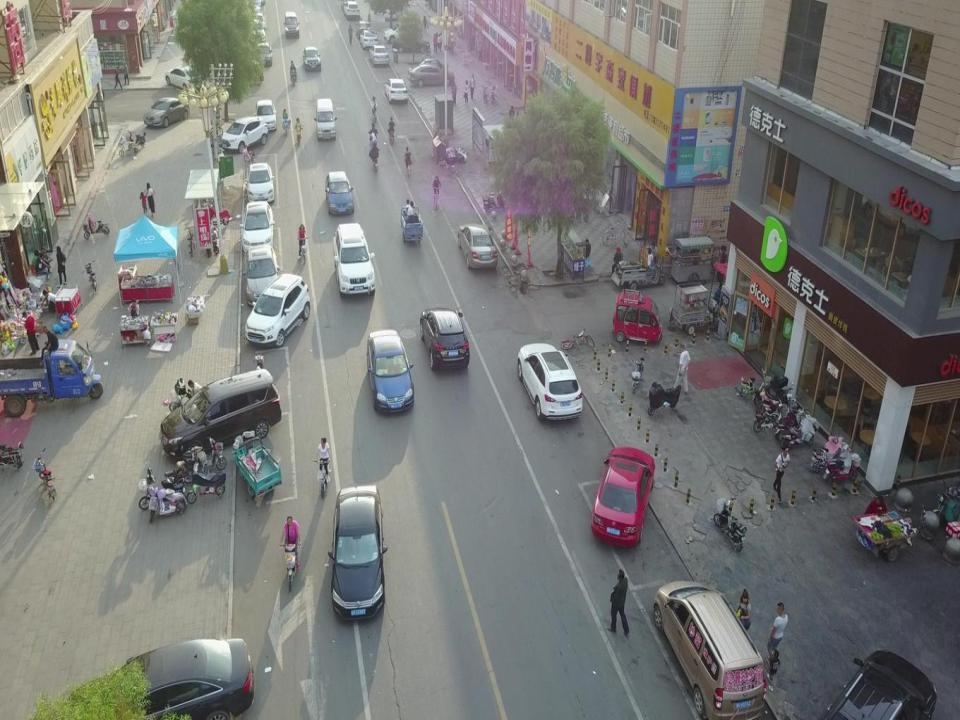car: (80, 634, 251, 720), (814, 644, 940, 720), (326, 483, 388, 622), (590, 443, 658, 544), (243, 272, 320, 348), (516, 340, 584, 420), (850, 501, 936, 563), (365, 327, 415, 412), (420, 306, 474, 373), (332, 222, 376, 298), (243, 246, 281, 307), (457, 221, 500, 269), (239, 201, 277, 255), (219, 116, 268, 152), (142, 97, 190, 129), (323, 170, 355, 218), (244, 161, 276, 205), (408, 64, 456, 88), (164, 64, 206, 88), (252, 100, 277, 131), (248, 40, 274, 68), (384, 76, 408, 104), (301, 46, 323, 74), (368, 42, 388, 67), (359, 27, 380, 49), (354, 20, 376, 40), (341, 0, 361, 22)
van: (652, 581, 763, 657), (313, 99, 338, 139), (282, 9, 299, 38)
